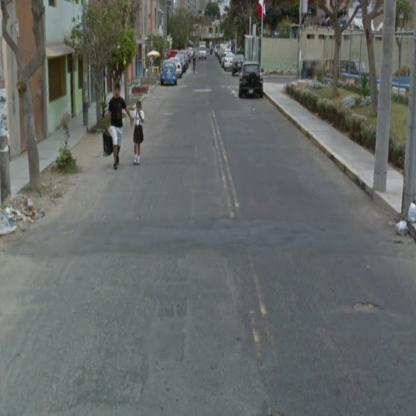Peaton: (108, 83, 136, 172), (133, 102, 148, 168), (194, 57, 197, 75)
Pista: (4, 69, 415, 410)
Vehiculo: (240, 63, 264, 98), (160, 60, 179, 88), (170, 59, 183, 81), (233, 56, 246, 77), (224, 54, 236, 72), (200, 43, 208, 62)
